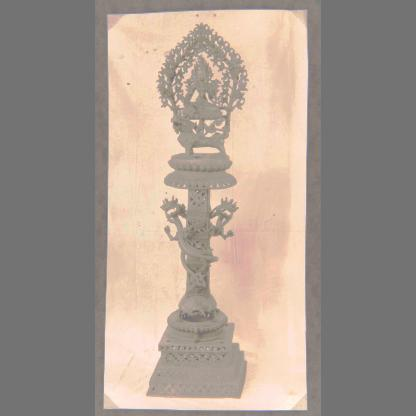buddha-sitting: (167, 55, 231, 117)
